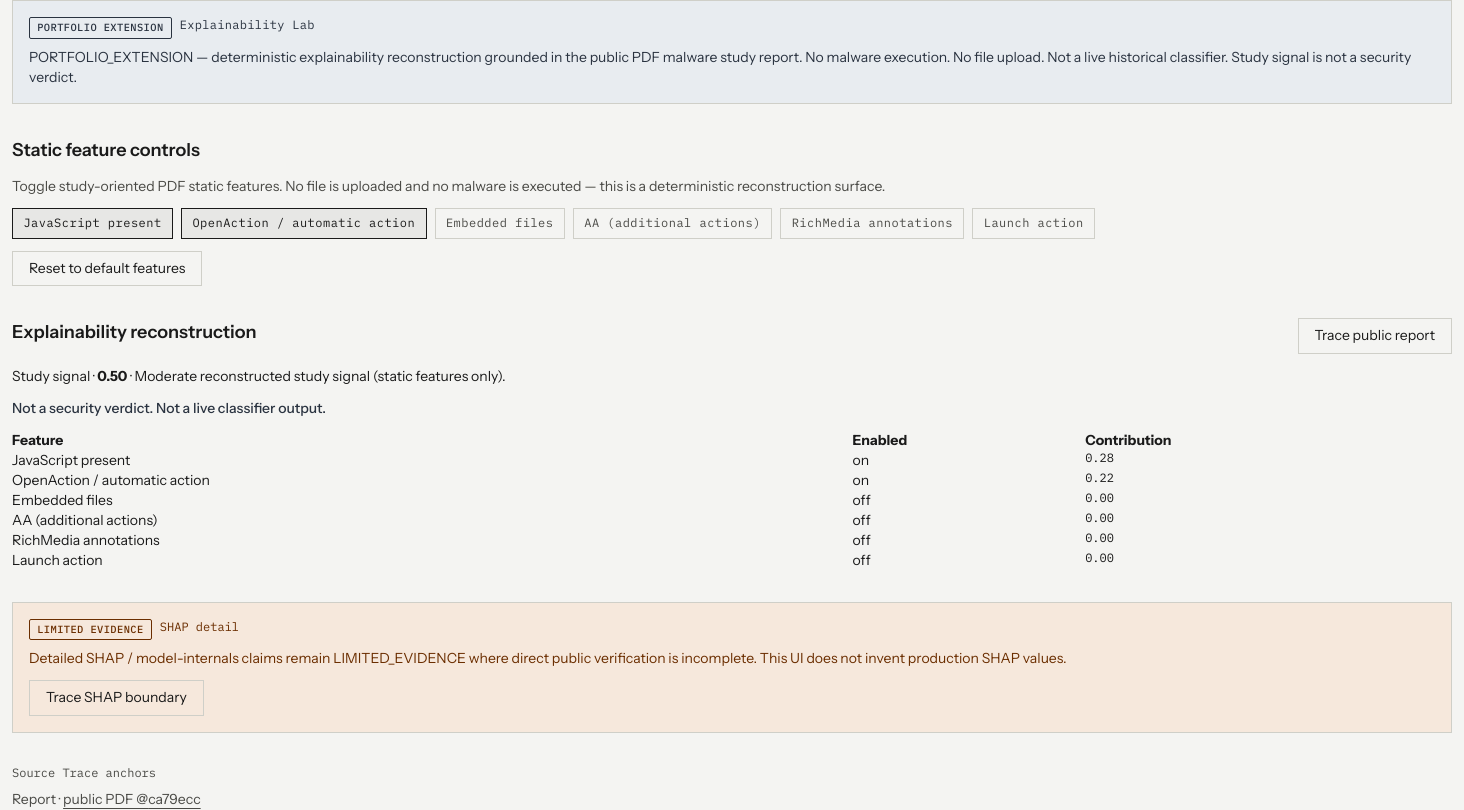
Test case: MalwareLab (M13) › pins default study signal and updates contributions when toggled
The width and height of the screenshot is (1464, 810).
Check: the text "Study signal ·" shows "0.50", box x1=97 y1=367 x2=127 y2=385
Check: the text "Moderate reconstructed study signal" is shown, box x1=134 y1=367 x2=506 y2=385
Click the button "Embedded files" at {"x": 500, "y": 223}, box x1=434 y1=208 x2=565 y2=239
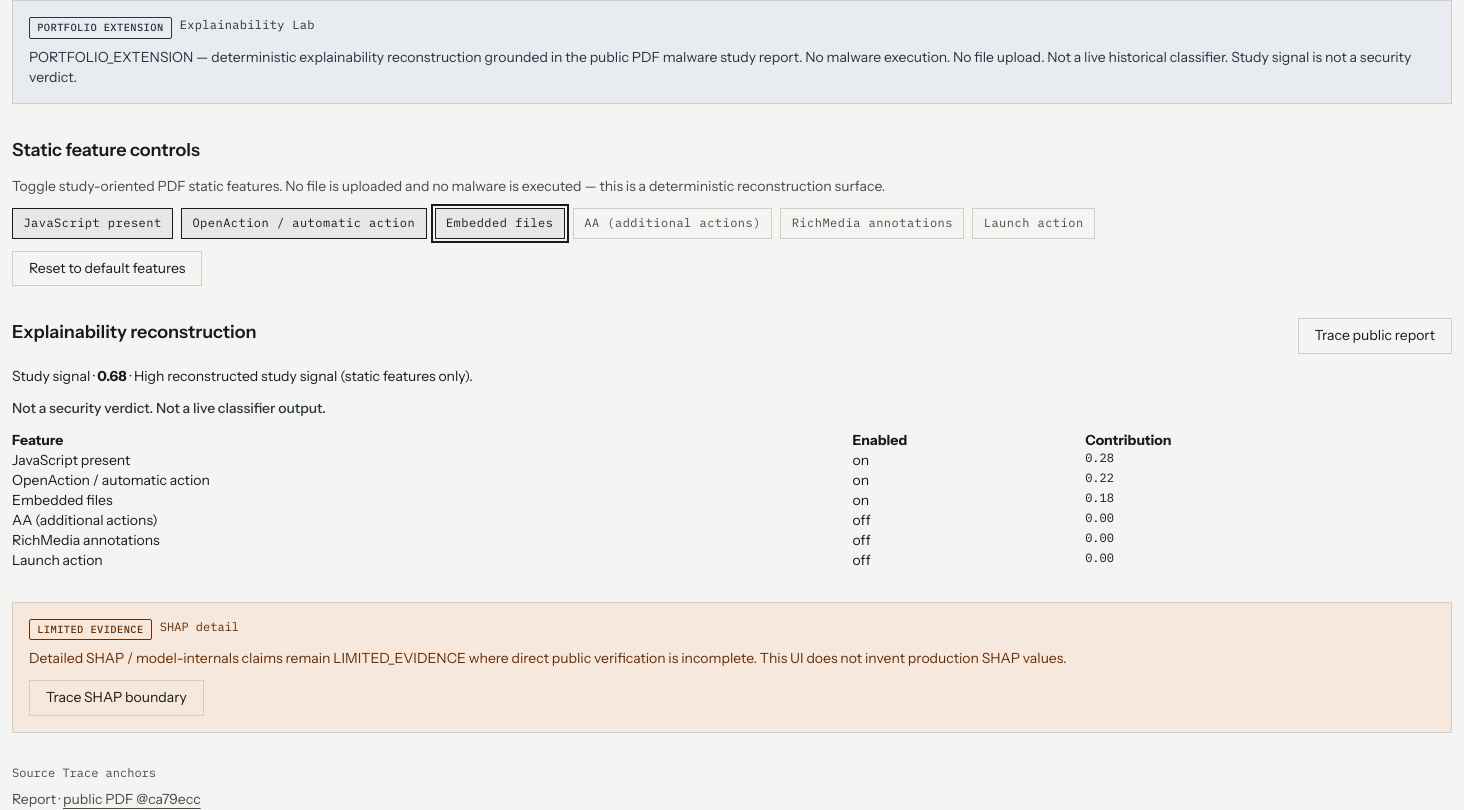
Check: the text "Study signal ·" shows "0.68", box x1=97 y1=367 x2=127 y2=385
Check: the text "High reconstructed study signal" is shown, box x1=134 y1=367 x2=473 y2=385
Check: the text "on" next to "0.18" is shown, box x1=852 y1=491 x2=869 y2=509
